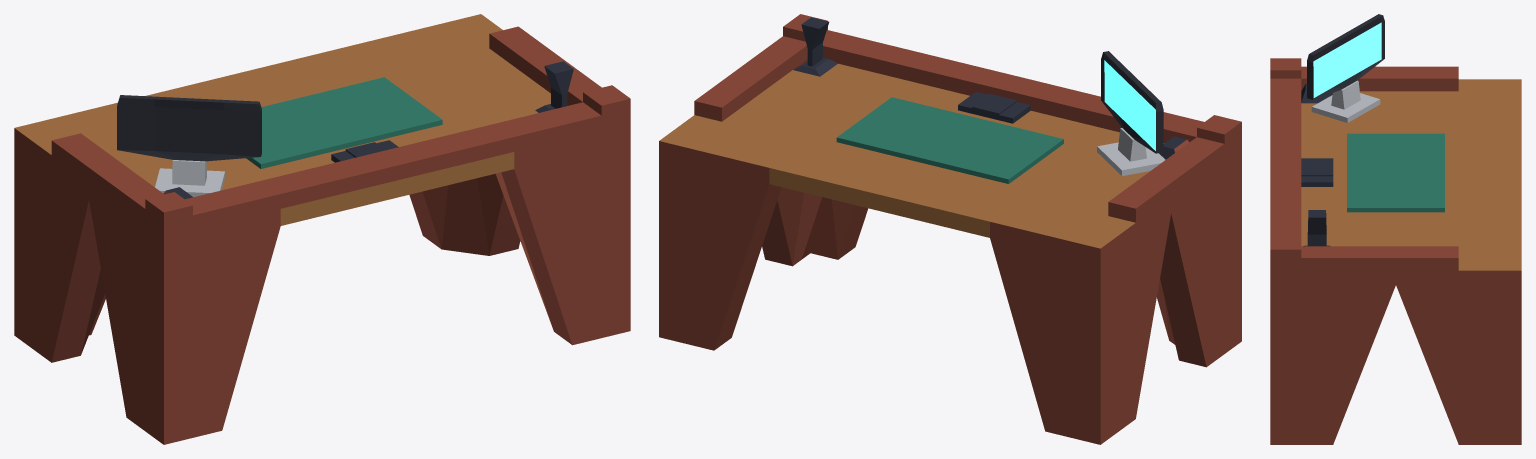
The model's file is masanew.fbx.
The picture shows the model from 3 angles, left to right: view 1: azimuth 30°, elevation 25°; view 2: azimuth 150°, elevation 25°; view 3: azimuth 270°, elevation 25°; orthographic projection. The views are drawn at different scales.
Visible parts, largest first — view 1: Cube.001, Cube.002; view 2: Cube.001, Cube.002; view 3: Cube.001, Cube.002.
Boxes of the visible parts, left/top/right/bottom form: Cube.001: left=14, top=14, right=630, bottom=444; Cube.002: left=117, top=95, right=261, bottom=197; Cube.001: left=659, top=14, right=1241, bottom=444; Cube.002: left=1097, top=51, right=1165, bottom=175; Cube.001: left=1270, top=58, right=1521, bottom=444; Cube.002: left=1307, top=14, right=1384, bottom=122.
Bounding box in the file's own units: 1020 × 616 × 566.
